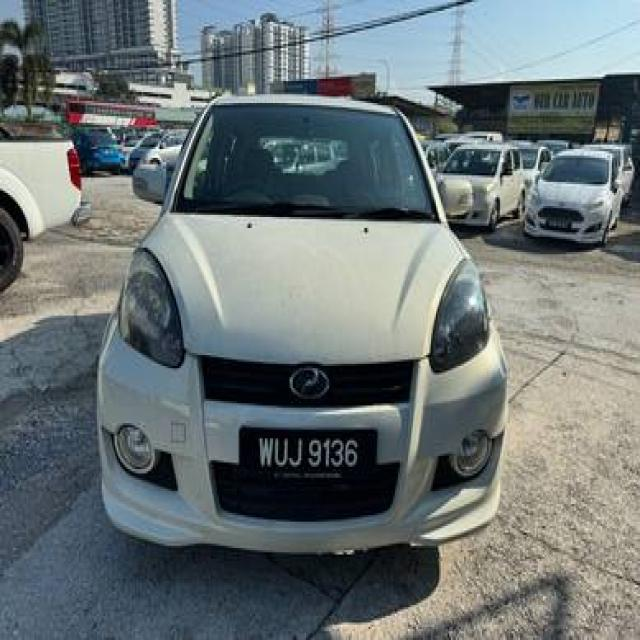PeroduaMyvi: (94, 88, 510, 556)
